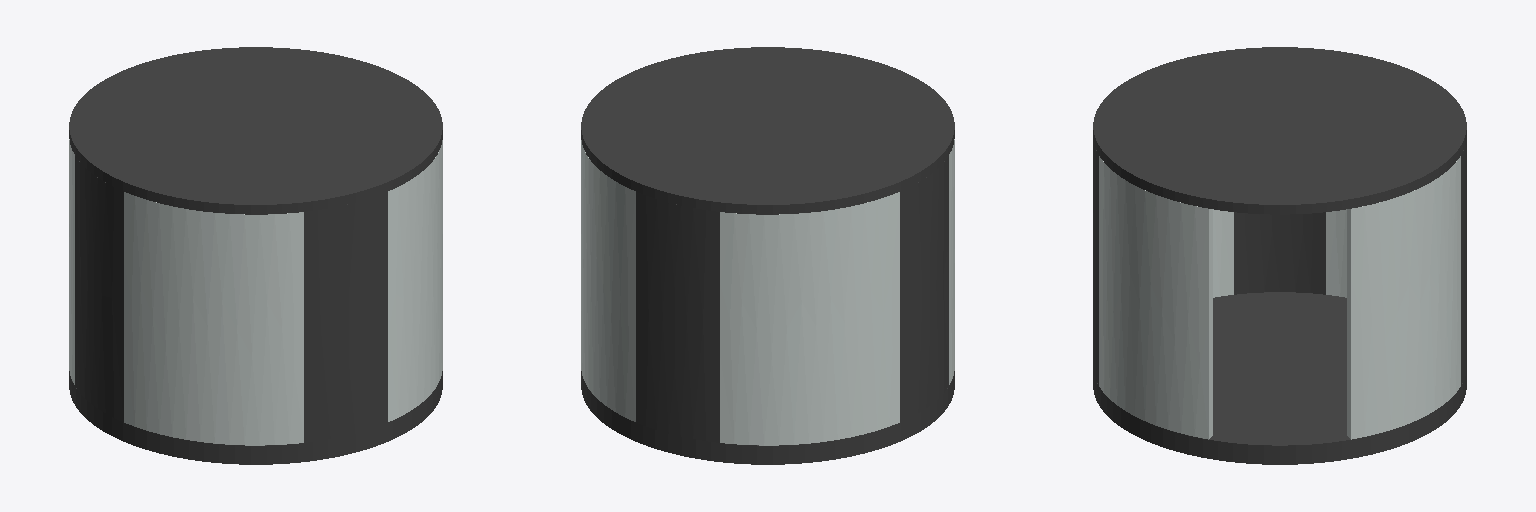
Rendered from cabine.obj.
3 views of the same model, side by side, from view 1: azimuth 30°, elevation 25°; view 2: azimuth 150°, elevation 25°; view 3: azimuth 270°, elevation 25° (orthographic).
Visible parts, largest first — view 1: Walls, Floors; view 2: Walls, Floors; view 3: Floors, Walls.
Boxes of the visible parts, x1=… form: Walls: x1=69, y1=139, x2=442, y2=445; Floors: x1=69, y1=47, x2=442, y2=464; Walls: x1=581, y1=139, x2=954, y2=445; Floors: x1=581, y1=47, x2=954, y2=464; Floors: x1=1093, y1=47, x2=1466, y2=464; Walls: x1=1093, y1=140, x2=1466, y2=439.
Size of the model in its own units: 3.52 by 2.7 by 3.52.